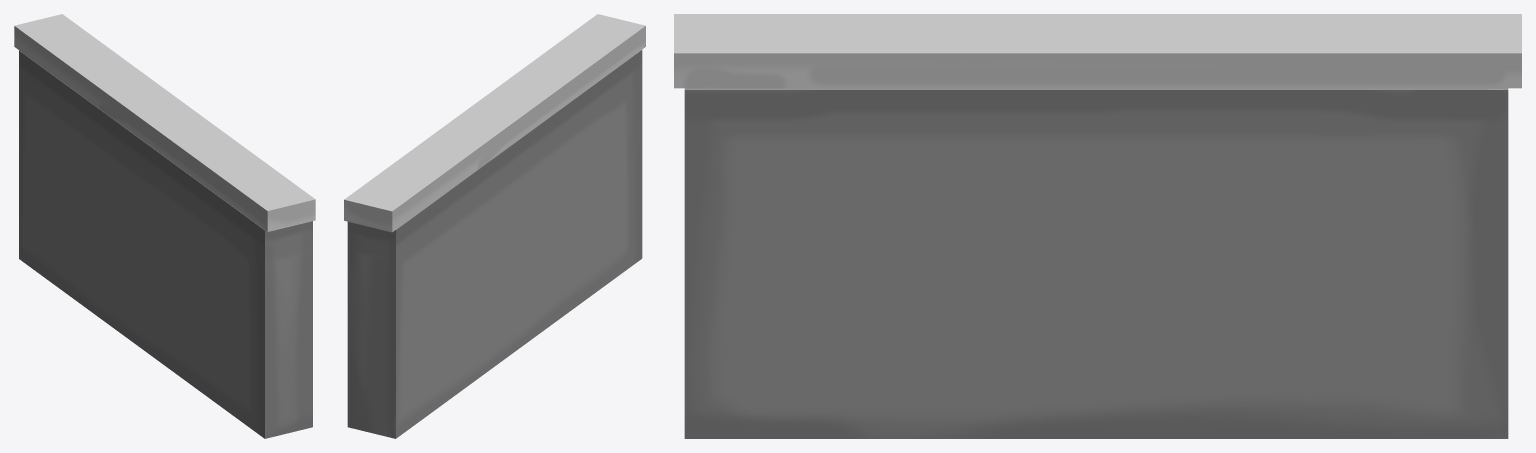
The model's file is muro1comtextura.fbx.
The picture shows the model from 3 angles, left to right: view 1: azimuth 30°, elevation 25°; view 2: azimuth 150°, elevation 25°; view 3: azimuth 270°, elevation 25°; orthographic projection. The views are drawn at different scales.
Visible parts, largest first — view 1: Cube; view 2: Cube; view 3: Cube.
Boxes of the visible parts, bbox=[...] form: Cube: bbox=[14, 14, 315, 438]; Cube: bbox=[344, 14, 645, 438]; Cube: bbox=[674, 14, 1521, 438].
Bounding box in the file's own units: 79.94 × 362 × 722.
